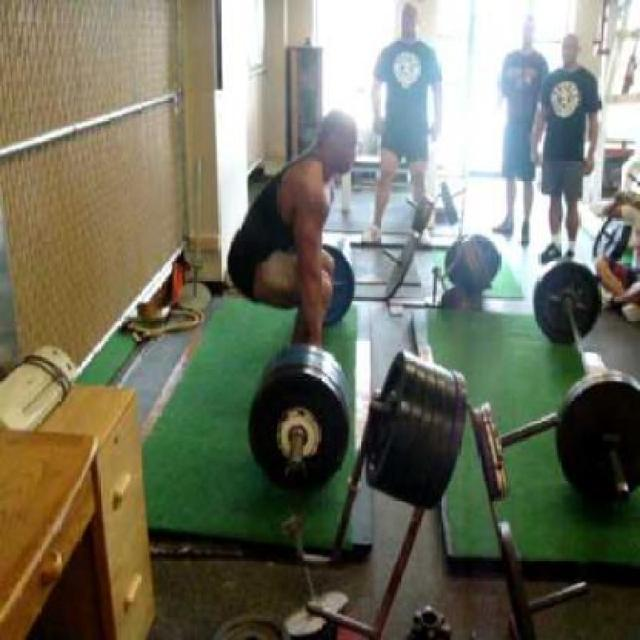barbell: (244, 363, 355, 500), (529, 248, 607, 352)
